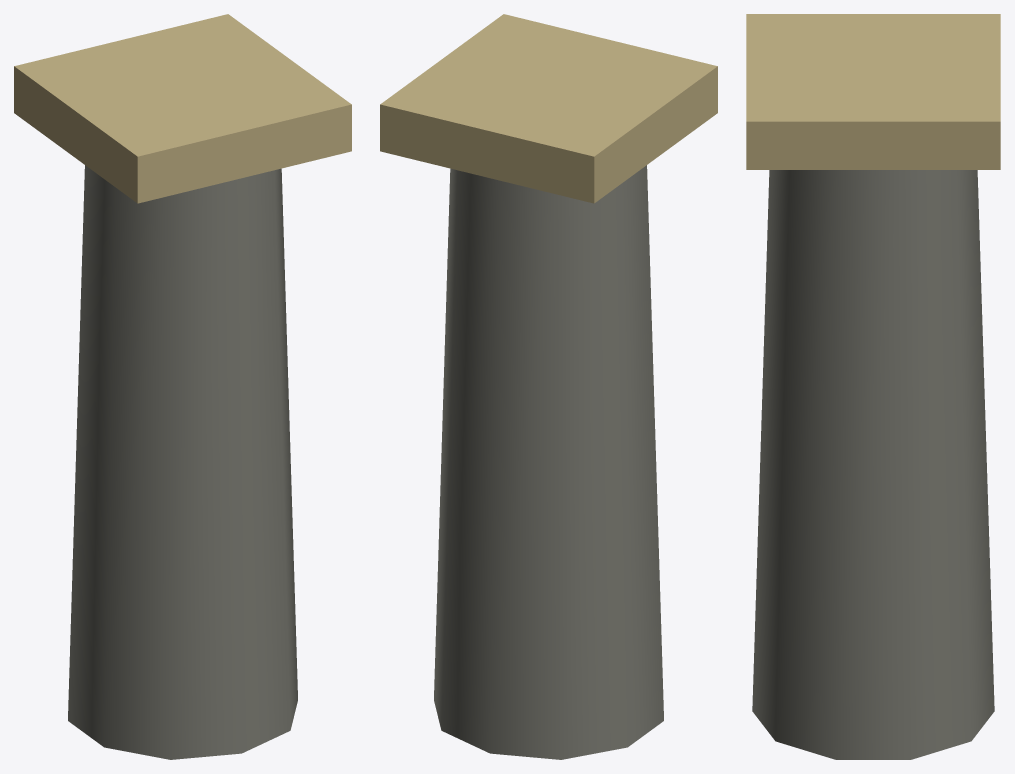
The model's file is chimney_module.glb.
3 views of the same model, side by side, from view 1: azimuth 30°, elevation 25°; view 2: azimuth 150°, elevation 25°; view 3: azimuth 270°, elevation 25° (orthographic). The views are drawn at different scales.
Parts seen in each view (by area): view 1: chimney, cap; view 2: chimney, cap; view 3: chimney, cap.
Part boxes in pixels (<box>): chimney: <box>68,165,297,759</box>; cap: <box>14,14,351,203</box>; chimney: <box>434,165,663,759</box>; cap: <box>380,14,717,203</box>; chimney: <box>752,170,994,759</box>; cap: <box>746,14,1000,169</box>.
Size of what is drawn, in the model's own units: 1.05 by 2.93 by 1.05.
